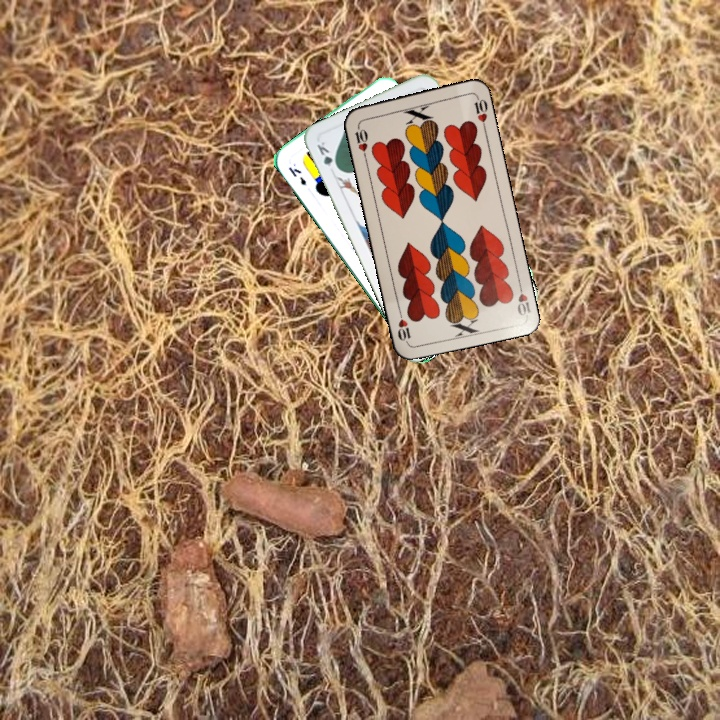EK: (284, 163, 309, 188)
GK: (313, 137, 341, 173)
H10: (512, 278, 533, 318), (351, 120, 370, 160)
